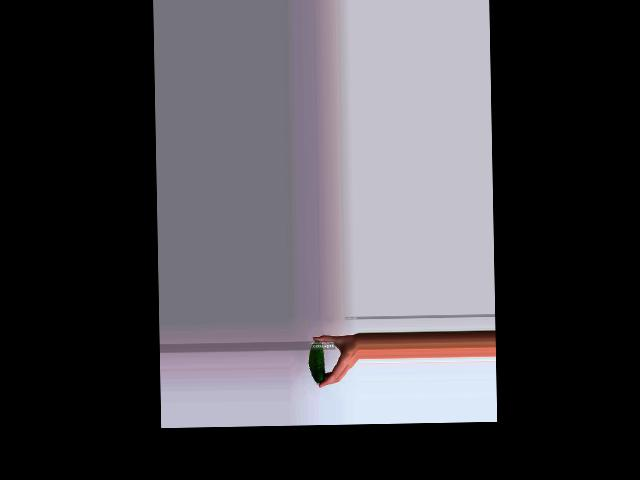cucumber: (307, 340, 324, 383)
